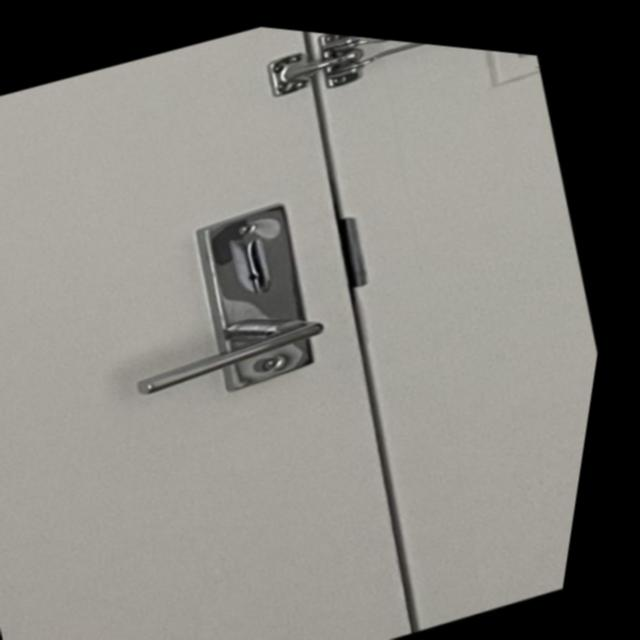door_handle: (111, 262, 369, 430)
